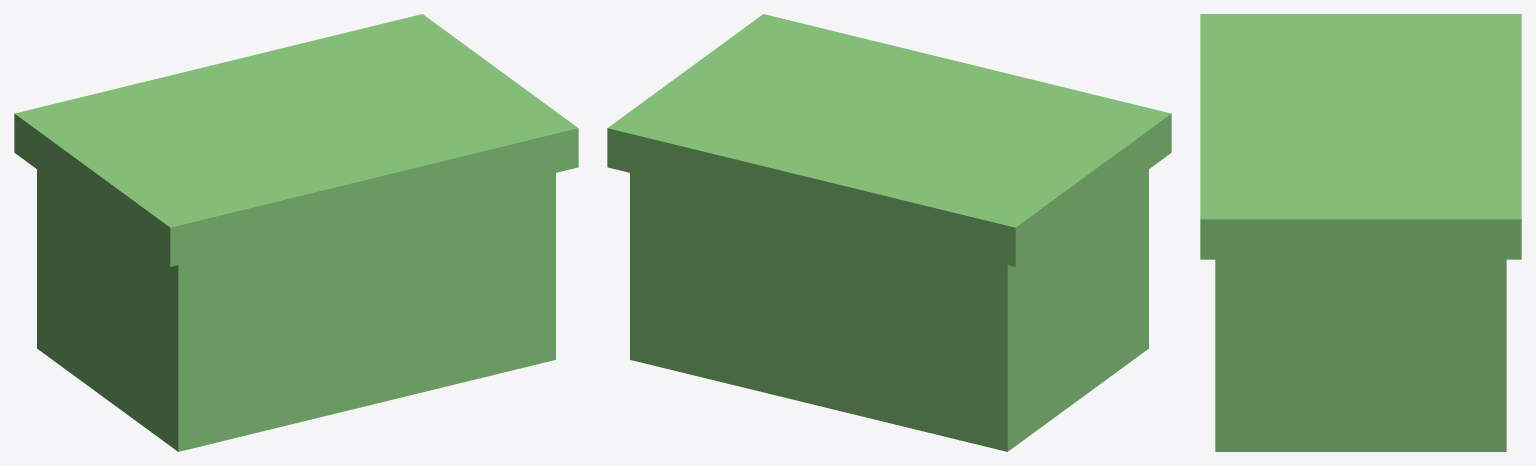
The model's file is Stand.fbx.
3 views of the same model, side by side, from view 1: azimuth 30°, elevation 25°; view 2: azimuth 150°, elevation 25°; view 3: azimuth 270°, elevation 25° (orthographic). The views are drawn at different scales.
Visible parts, largest first — view 1: Stand; view 2: Stand; view 3: Stand.
Boxes of the visible parts, x1,y1,x2,y2 form: Stand: (14,14,578,451); Stand: (607,14,1171,451); Stand: (1200,14,1521,451).
Size of the model in its own units: 131 by 71.57 by 86.75.
